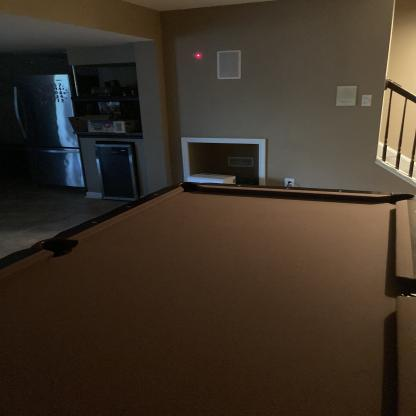target: (192, 52, 204, 58)
